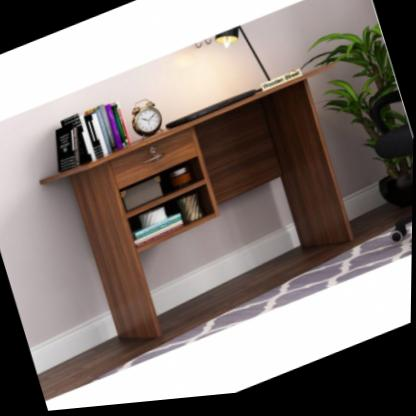Carpet: (129, 229, 413, 368)
Table: (27, 54, 395, 370)
Wooden floor: (39, 213, 413, 403)
